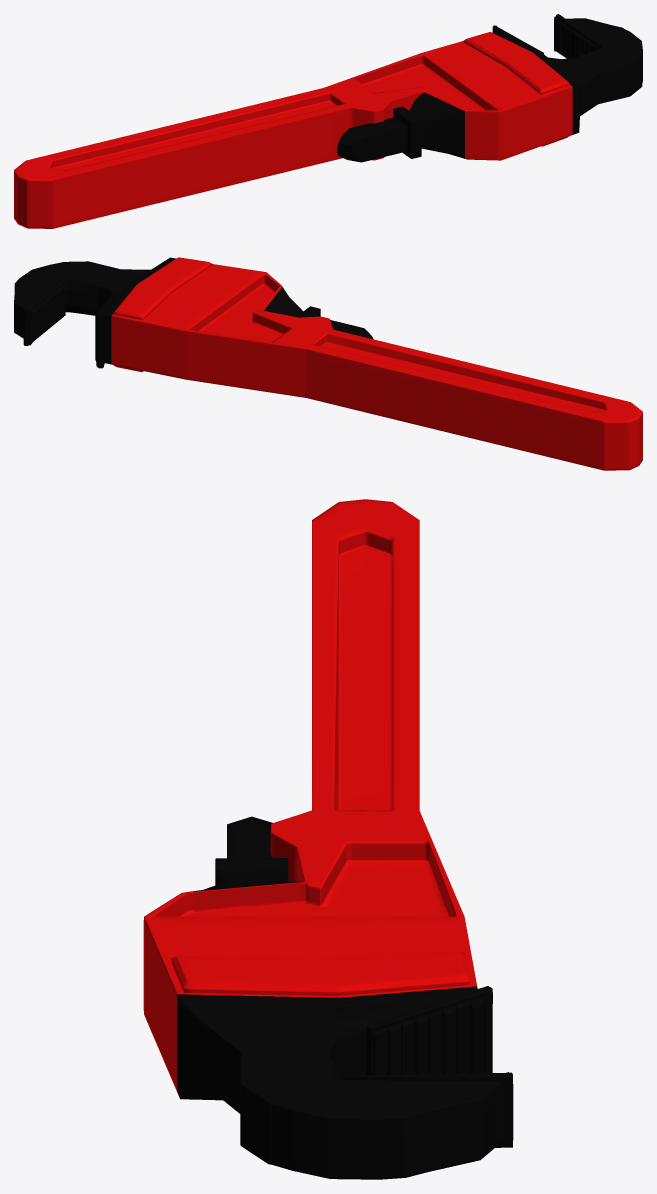
Rendered from Wrench.fbx.
3 renders of one model, top to bottom at view 1: azimuth 30°, elevation 25°; view 2: azimuth 150°, elevation 25°; view 3: azimuth 270°, elevation 25°, orthographic. The views are drawn at different scales.
Visible parts, largest first — view 1: Wrench; view 2: Wrench; view 3: Wrench.
Boxes of the visible parts, x1,y1,x2,y2 form: Wrench: (14,14,642,228); Wrench: (14,257,642,470); Wrench: (143,499,513,1179).
Size of the model in its own units: 13.2 by 1.18 by 3.43.
